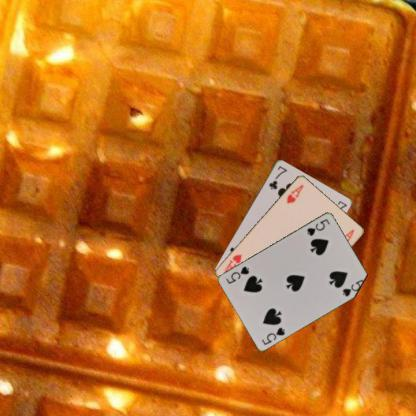5s: (259, 324, 286, 346), (305, 216, 331, 237)
7c: (266, 163, 288, 191)
Ah: (284, 182, 304, 205)
